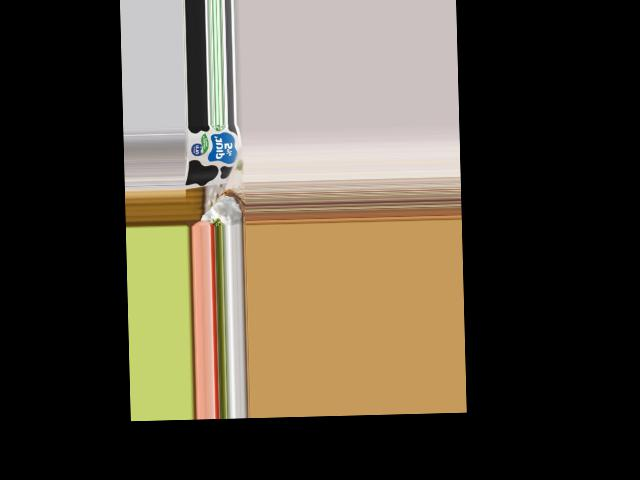cotage: (184, 124, 241, 185)
